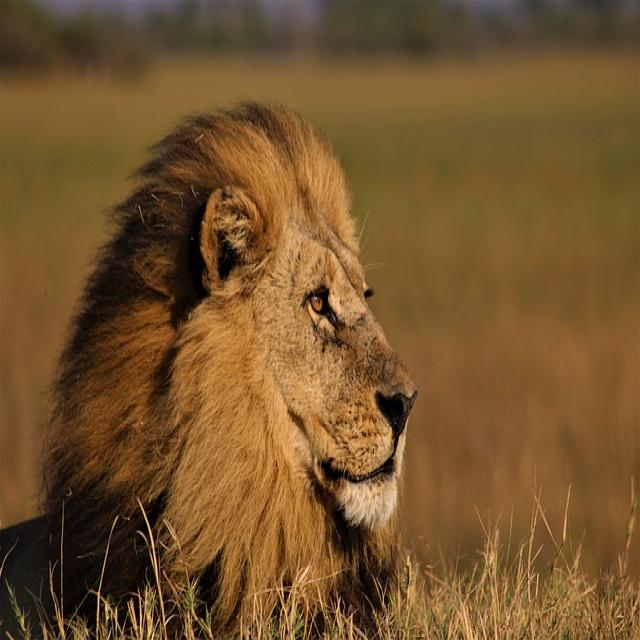Carnivorous: (0, 100, 419, 640)
